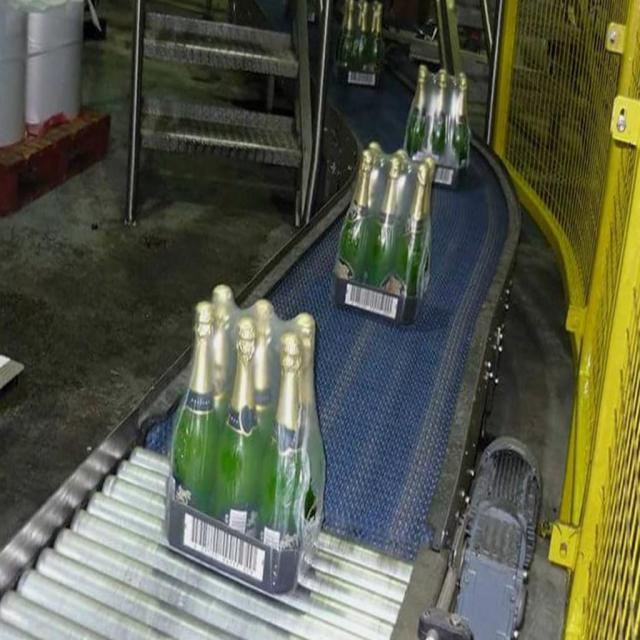bottle: (210, 314, 264, 542), (267, 328, 318, 560), (169, 299, 219, 517), (391, 159, 442, 323), (331, 150, 382, 299), (368, 145, 412, 309)
